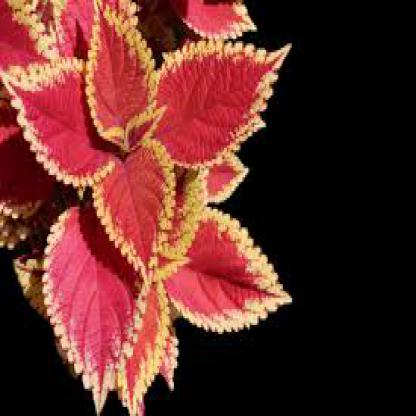Bunga Coleus: (9, 8, 257, 349)
